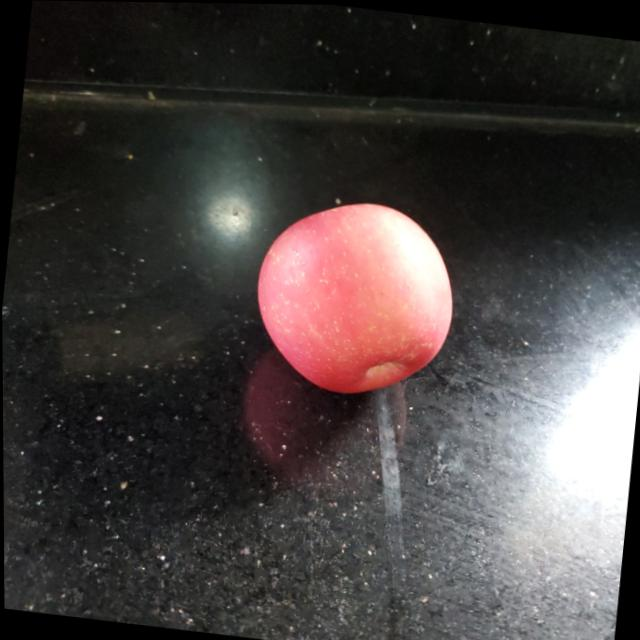apple: (245, 189, 460, 401)
